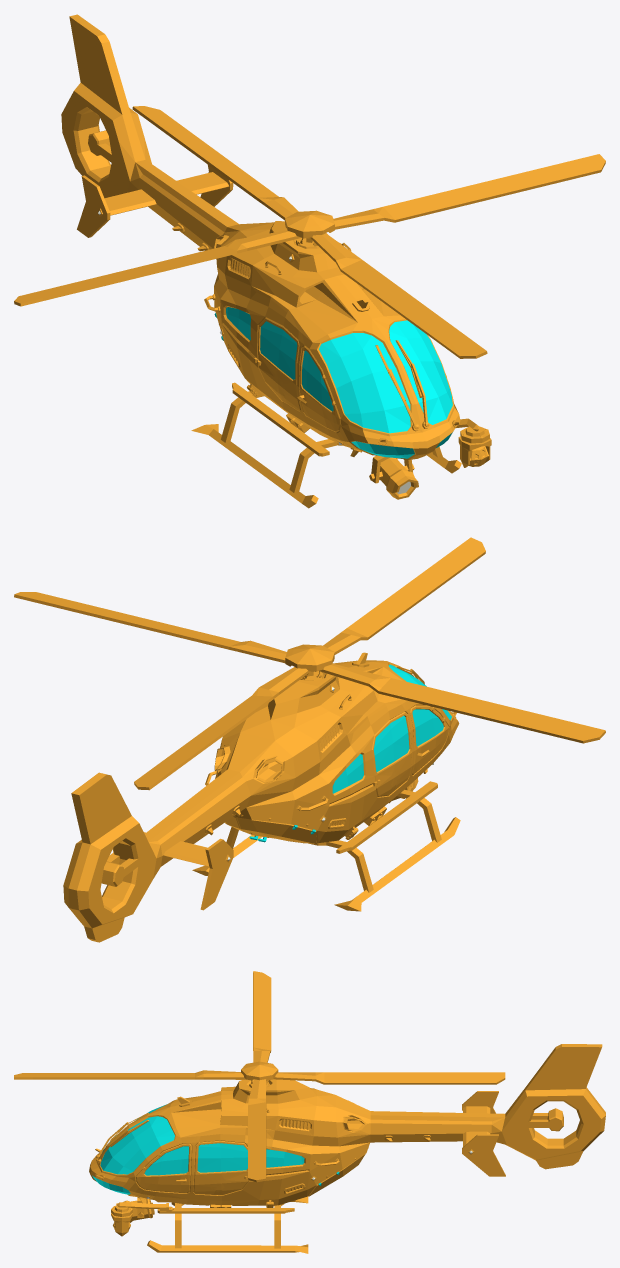
File: SM_Helicopter_Police_City.fbx
3 views of the same model, one above another, from view 1: azimuth 30°, elevation 25°; view 2: azimuth 150°, elevation 25°; view 3: azimuth 270°, elevation 25° (orthographic). The views are drawn at different scales.
Visible parts, largest first — view 1: SM_Helicopter_Police_City_Base, SM_Helicopter_Police_City_Rotor_A, SM_Helicopter_Police_City_Door_RB, SM_Helicopter_Police_City_Door_RF; view 2: SM_Helicopter_Police_City_Base, SM_Helicopter_Police_City_Rotor_A, SM_Helicopter_Police_City_Door_RB, SM_Helicopter_Police_City_Door_RF; view 3: SM_Helicopter_Police_City_Base, SM_Helicopter_Police_City_Rotor_A, SM_Helicopter_Police_City_Door_LB, SM_Helicopter_Police_City_Door_LF.
Part boxes in pixels (box(x1,y1,x2,y2)): SM_Helicopter_Police_City_Base: box(61, 14, 491, 508); SM_Helicopter_Police_City_Rotor_A: box(14, 106, 605, 358); SM_Helicopter_Police_City_Door_RB: box(254, 317, 301, 412); SM_Helicopter_Police_City_Door_RF: box(297, 345, 340, 432); SM_Helicopter_Police_City_Base: box(63, 652, 460, 942); SM_Helicopter_Police_City_Rotor_A: box(14, 537, 605, 790); SM_Helicopter_Police_City_Door_RB: box(372, 711, 411, 796); SM_Helicopter_Police_City_Door_RF: box(410, 705, 448, 775); SM_Helicopter_Police_City_Base: box(89, 1044, 605, 1253); SM_Helicopter_Police_City_Rotor_A: box(14, 971, 505, 1182); SM_Helicopter_Police_City_Door_LB: box(193, 1140, 248, 1195); SM_Helicopter_Police_City_Door_LF: box(136, 1143, 191, 1193).
Size of the model in its own units: 10.78 by 4.41 by 13.
